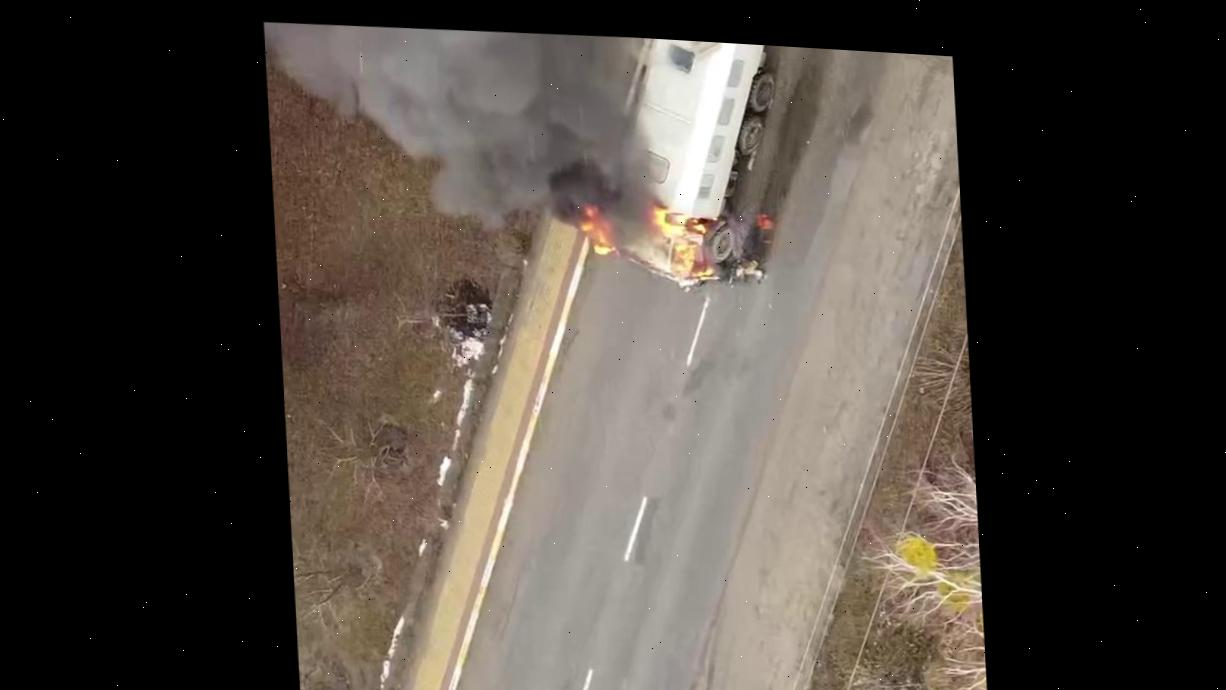truck: (598, 35, 785, 298)
